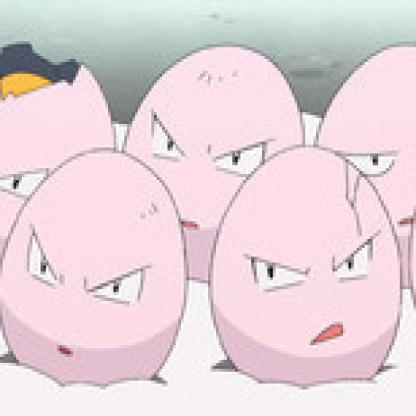Exeggcute: (1, 24, 415, 415)
